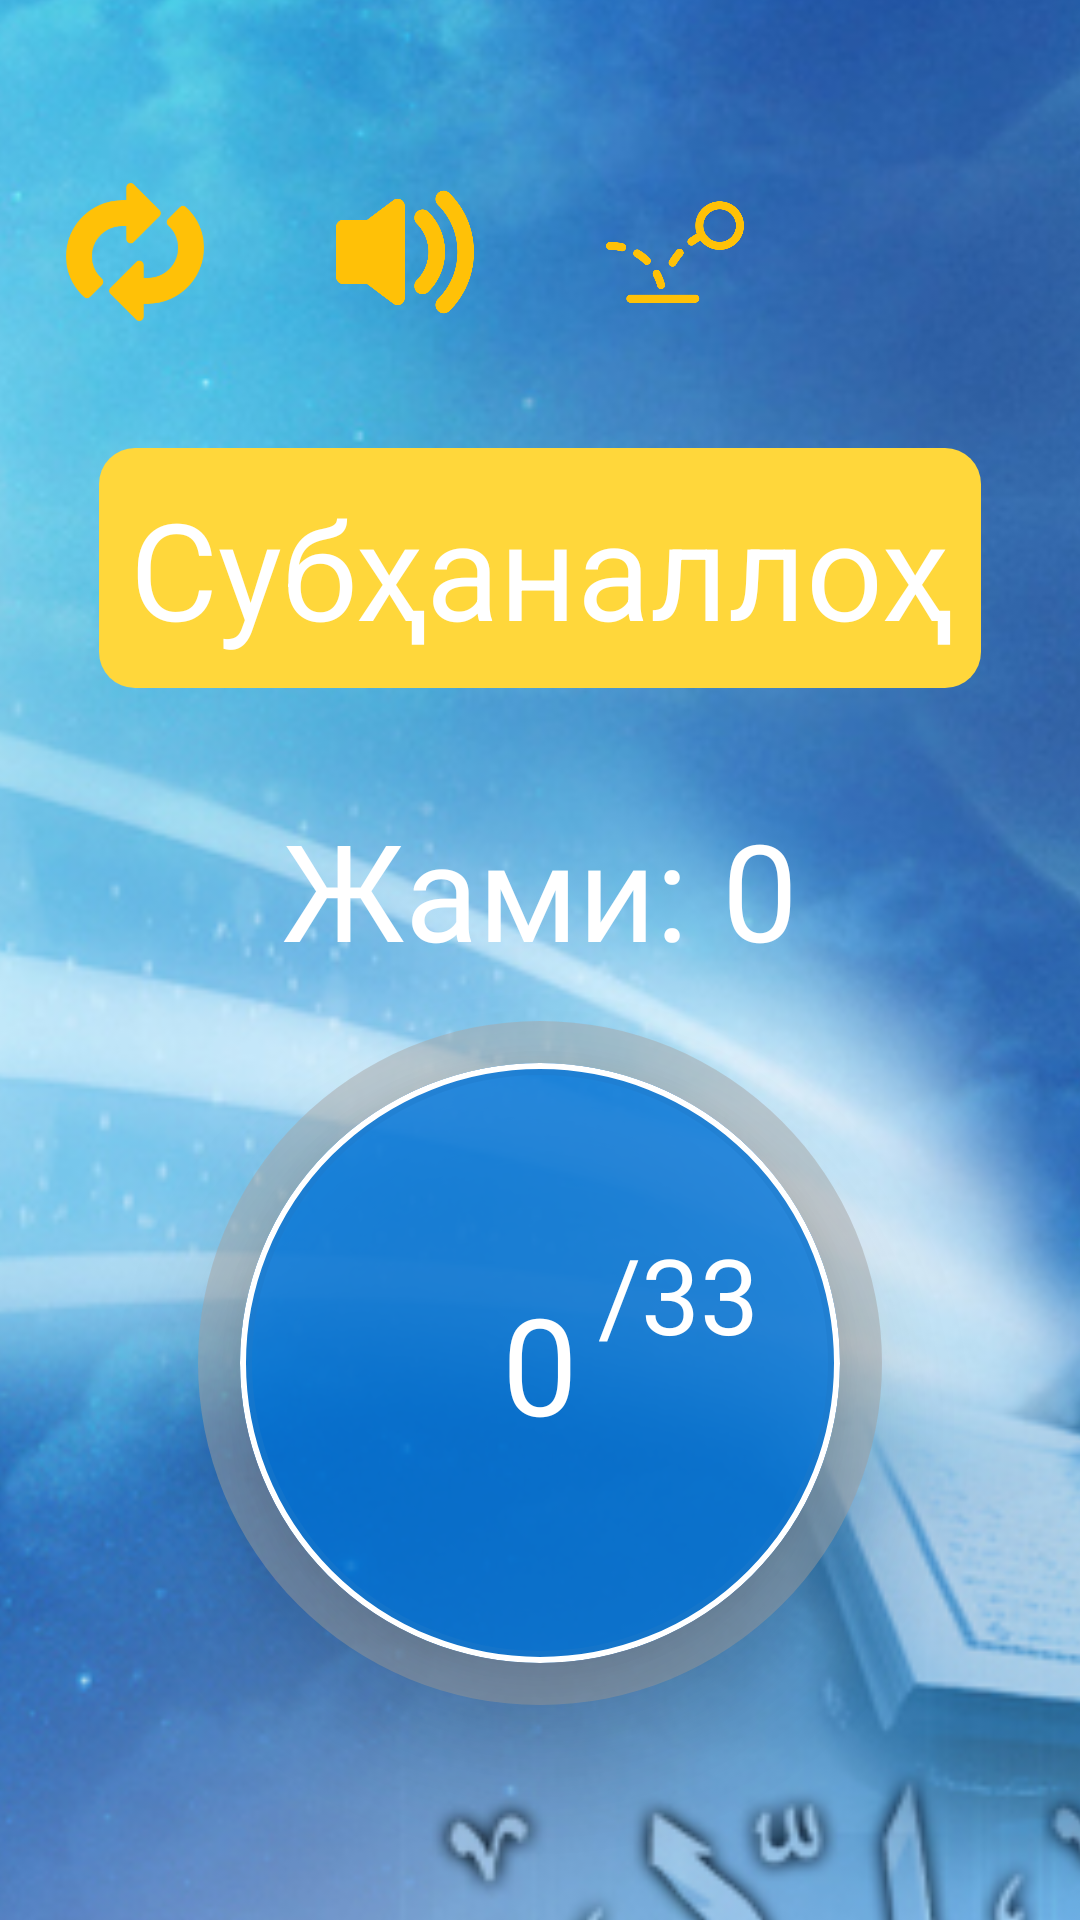

Screen size 1080x1920. Icon name, then its center in pixels as (x=x, y=y):
animation on: (x=675, y=252)
audio on: (x=405, y=252)
refresh: (x=102, y=255)
